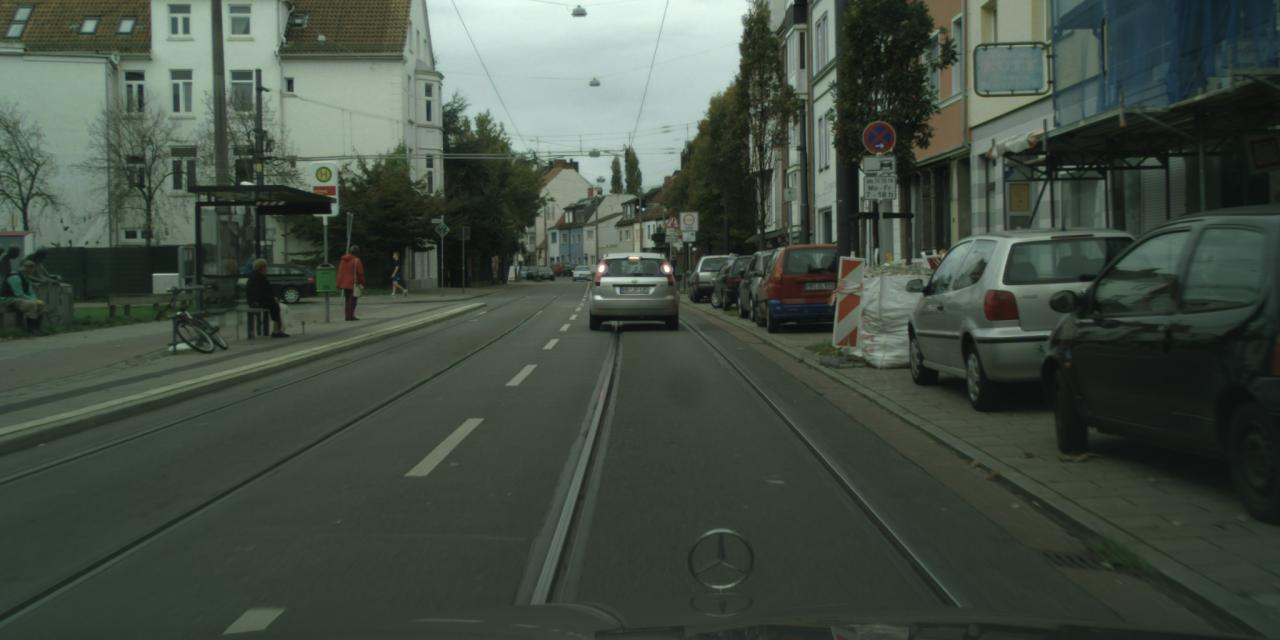ped: (336, 245, 366, 319), (388, 251, 406, 297), (668, 256, 678, 280)
